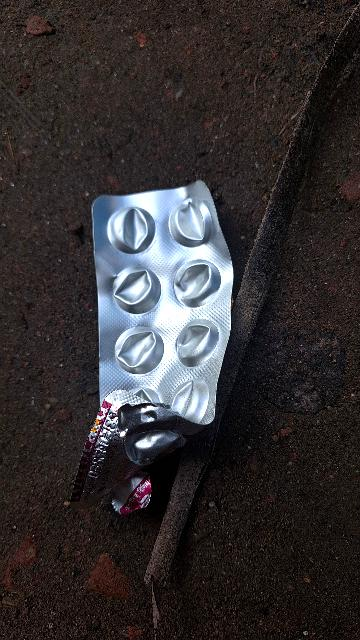medicine: (83, 175, 223, 501)
